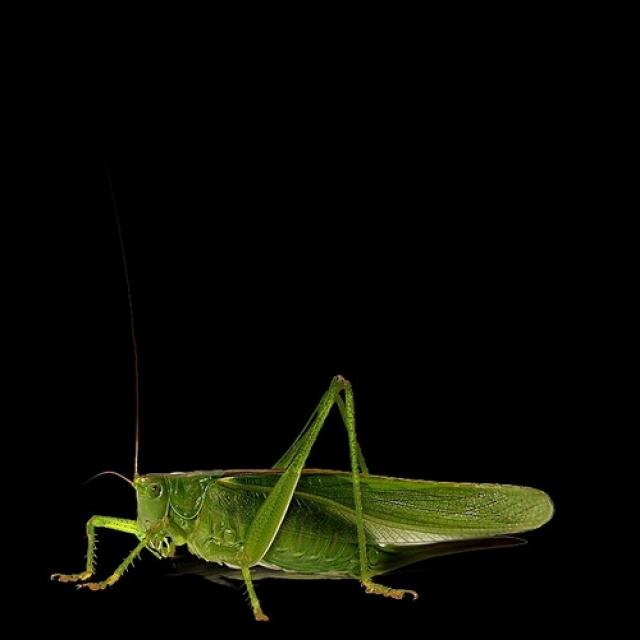ZhaMeng: (56, 374, 580, 620)
